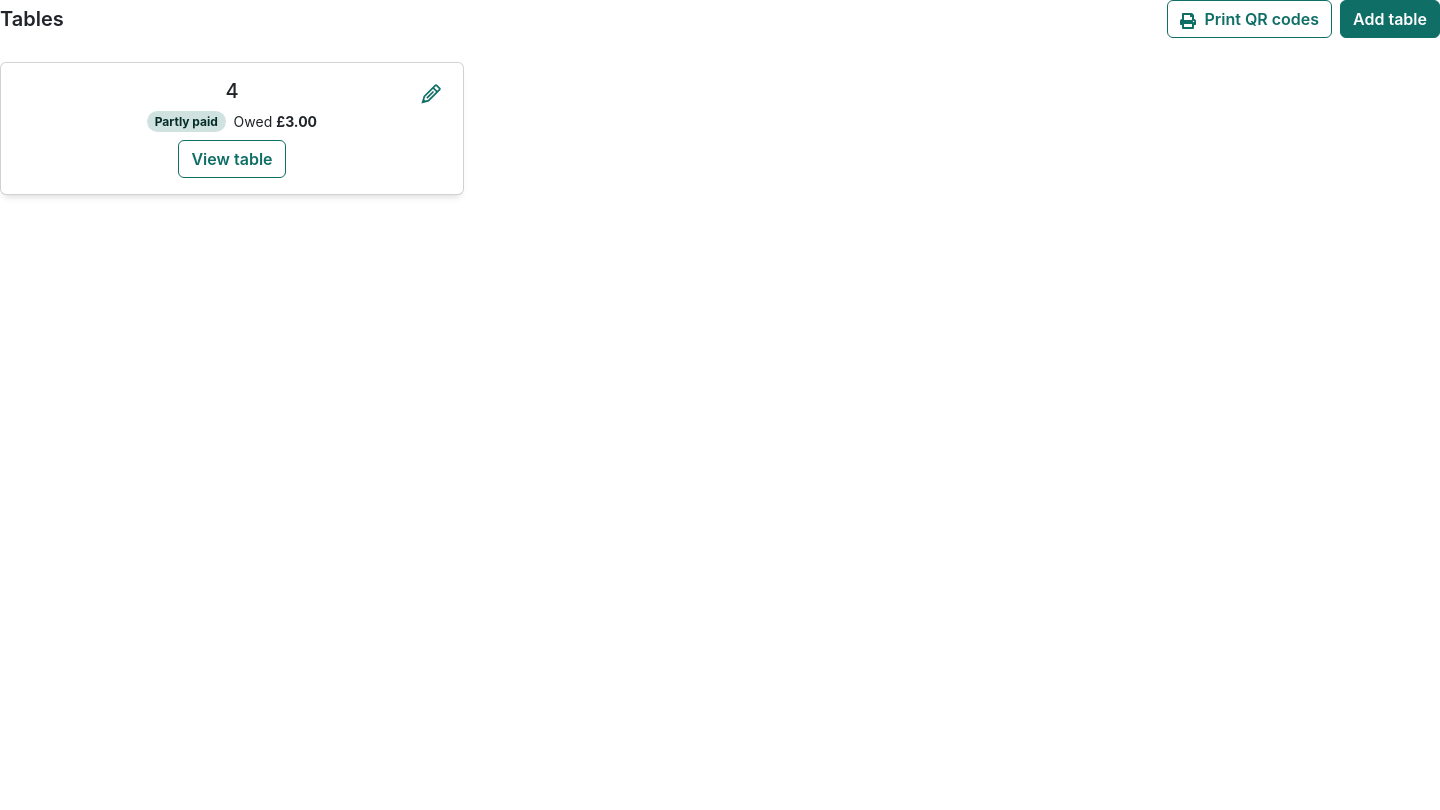
refunding a payment › closes the picker once the refund is sent
Click the button with aria-label "View table 4" at (232,159), box [178,140,286,178]
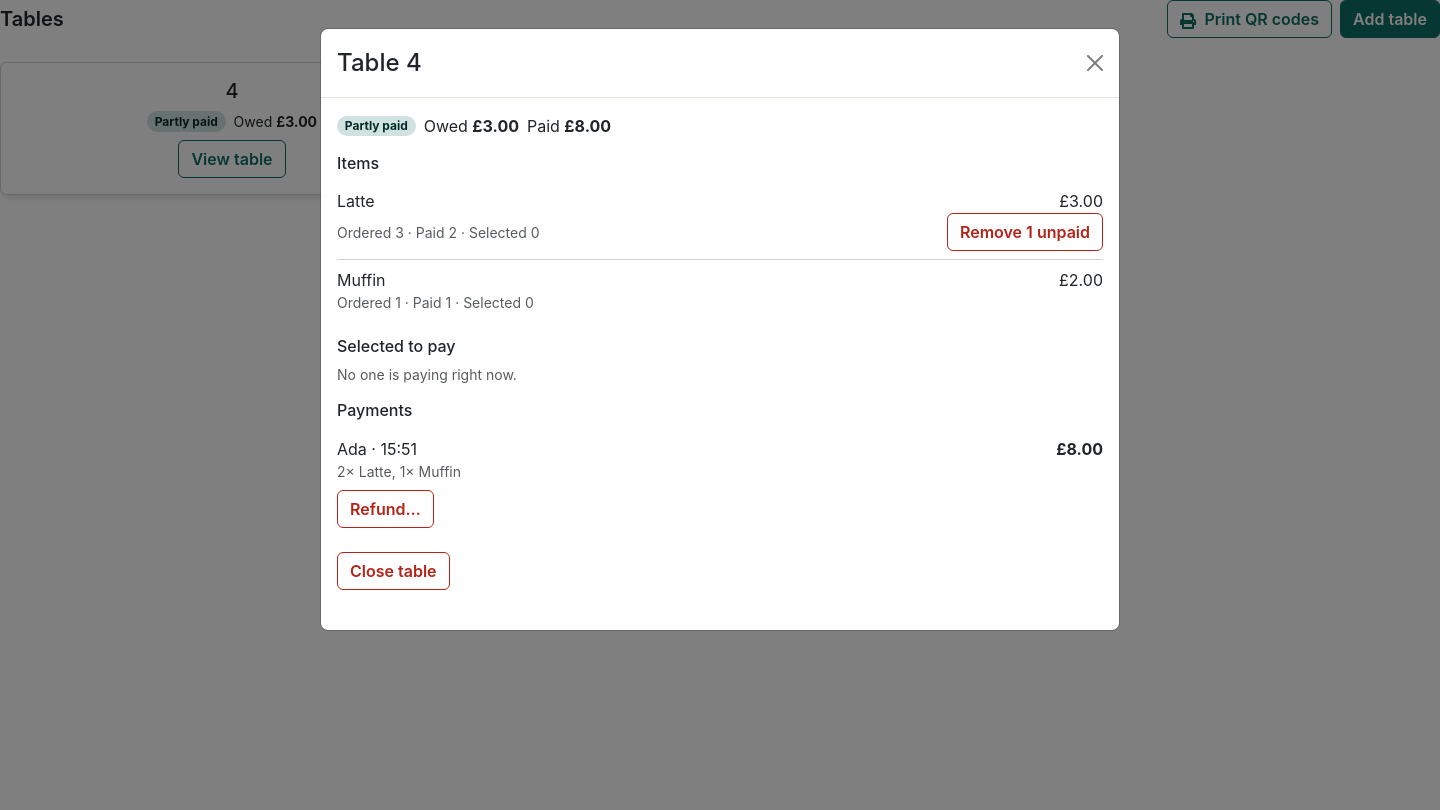
Click the button with aria-label "Refund items from Ada's payment of £8.00" at (385,509), box [337,490,434,528]
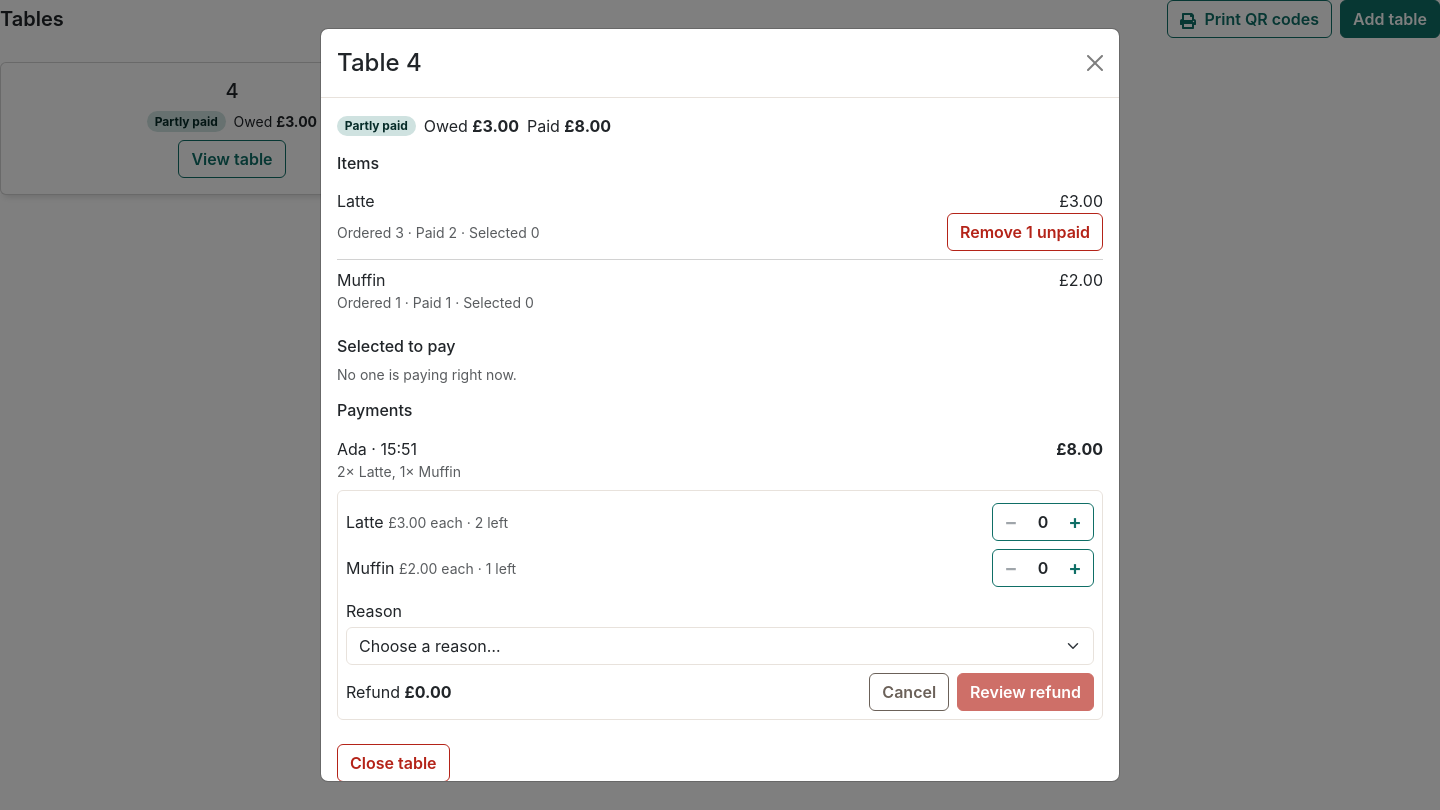
Click the button named "Refund one more Latte" at (1075,522), box [1057,504,1093,540]
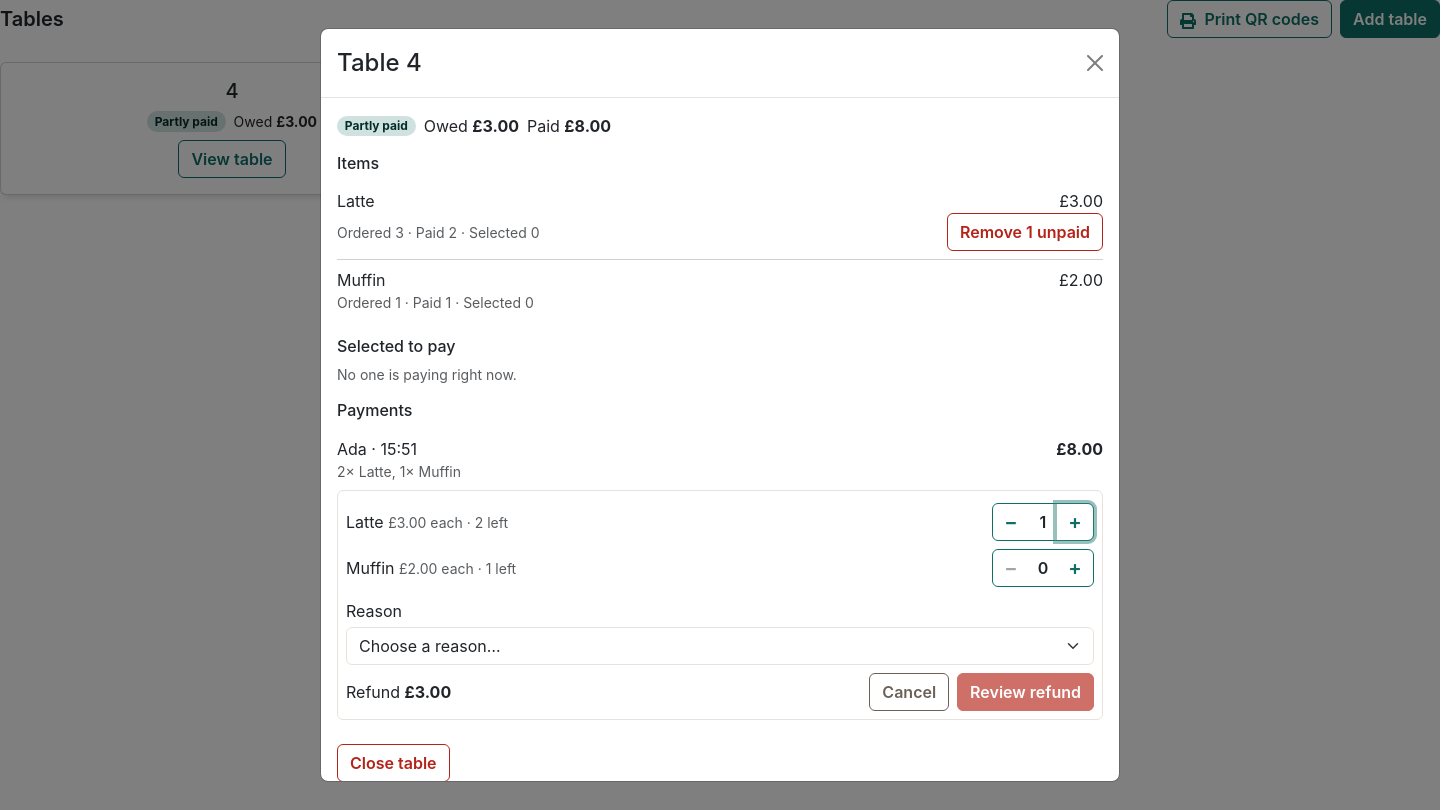
Select "Wrong item served" in the dropdown labelled "Reason" at (720,646), box [346,627,1094,665]
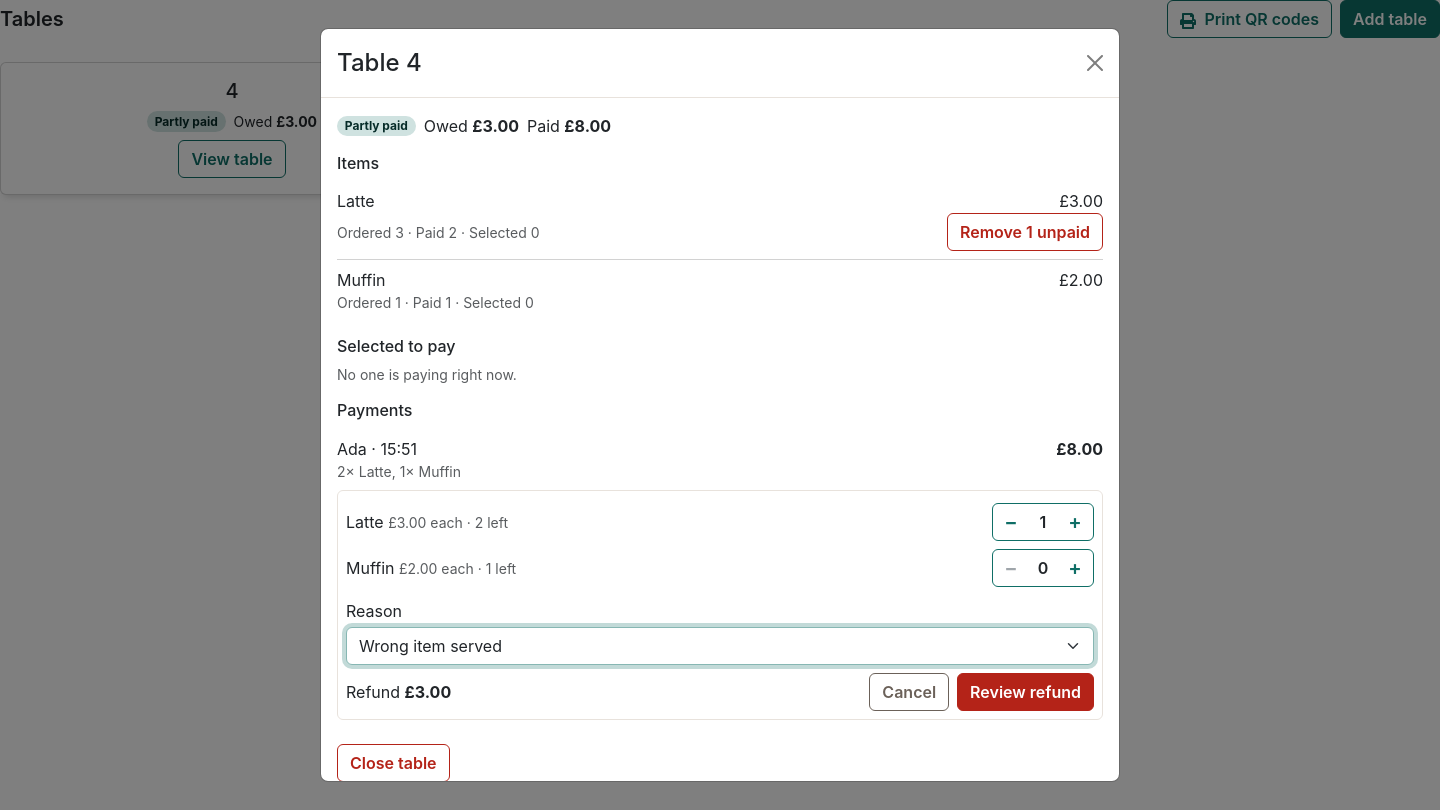
Click the button "Review refund" at (1026,692), box [957,673,1094,711]
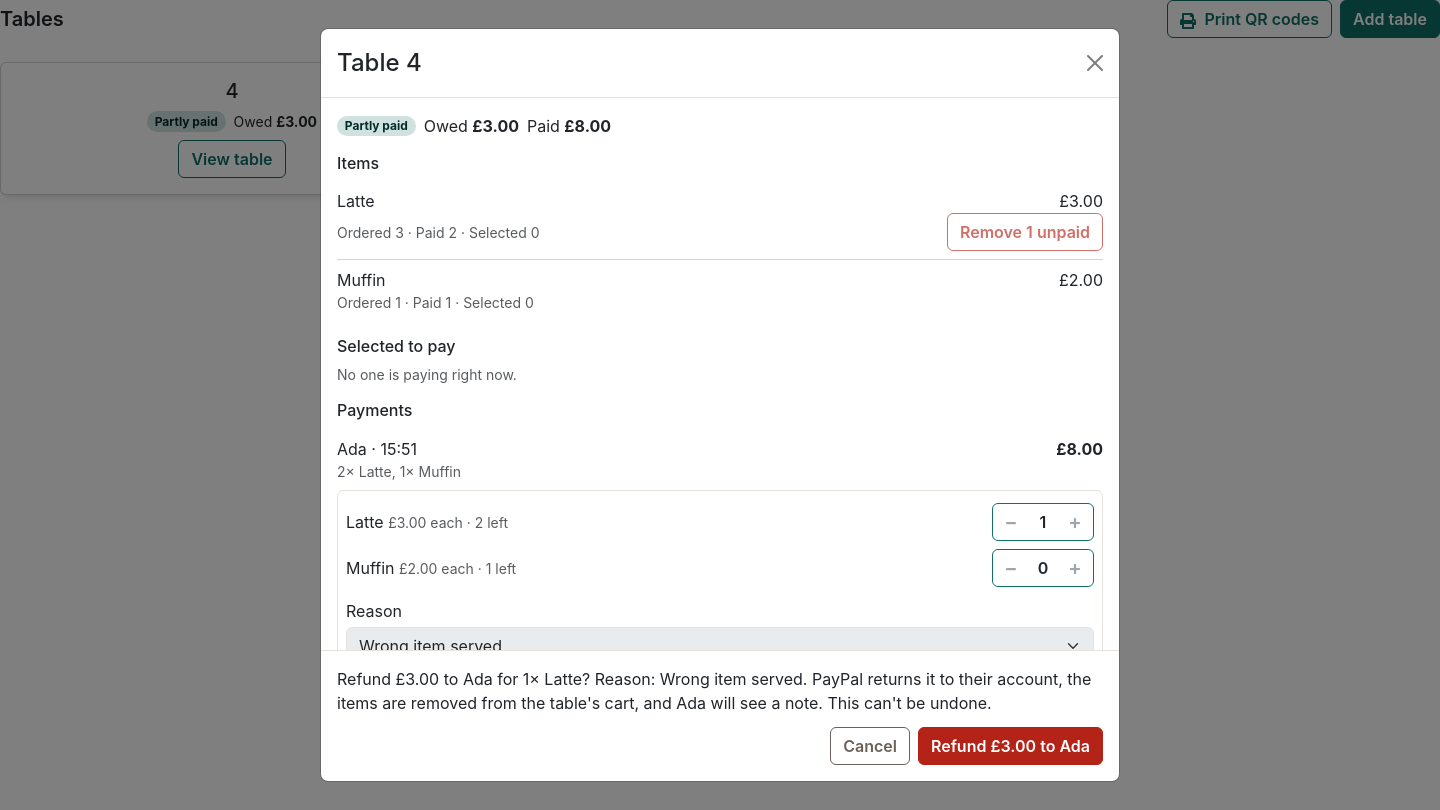
Click the button "Refund £3.00 to Ada" at (1010,746), box [918,727,1103,765]
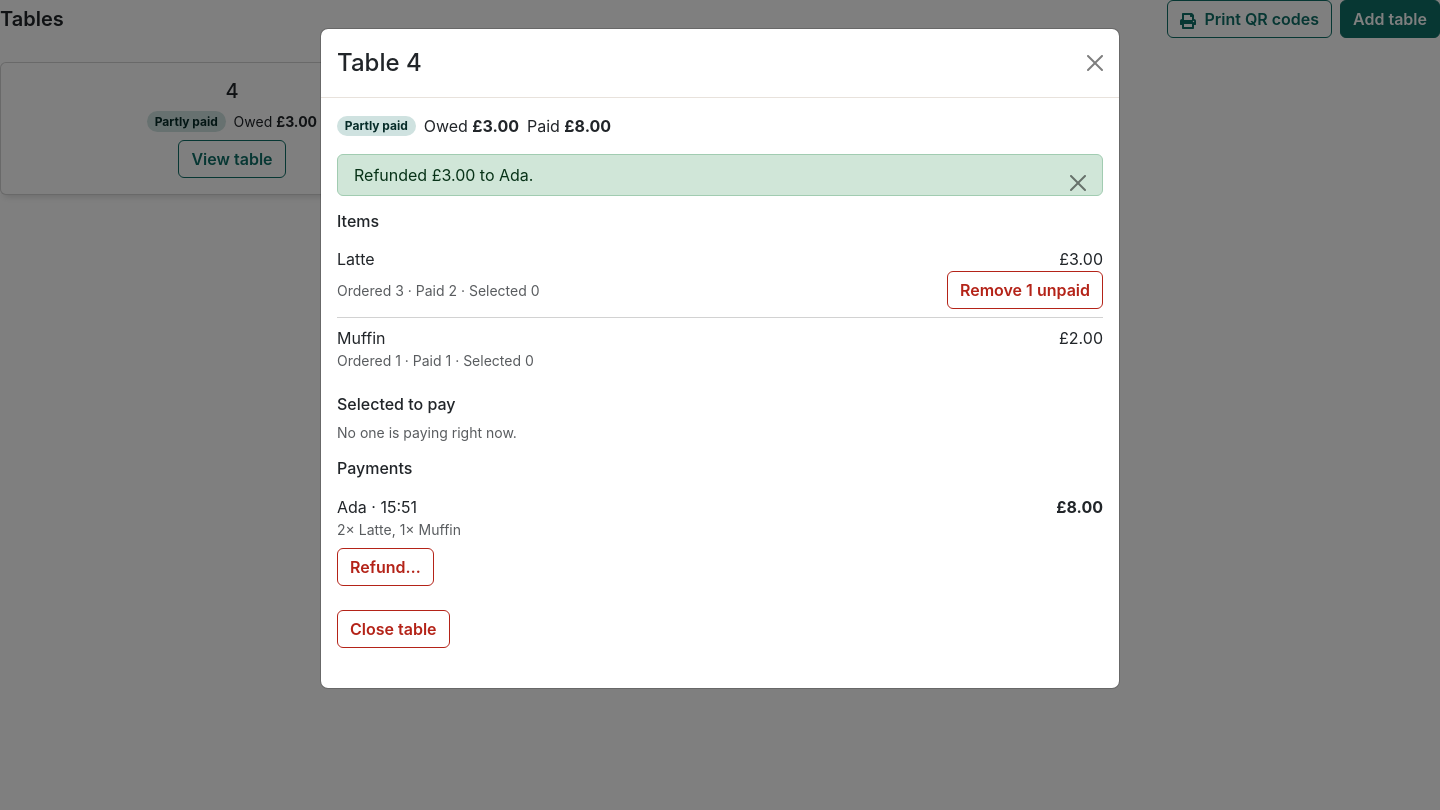
Expected: the text "Refunded £3.00 to Ada." is shown, [337,154,1103,196]
